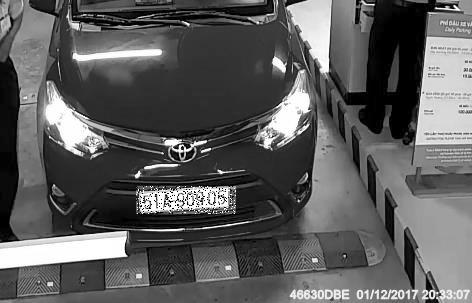License-plate: (137, 187, 237, 215)
